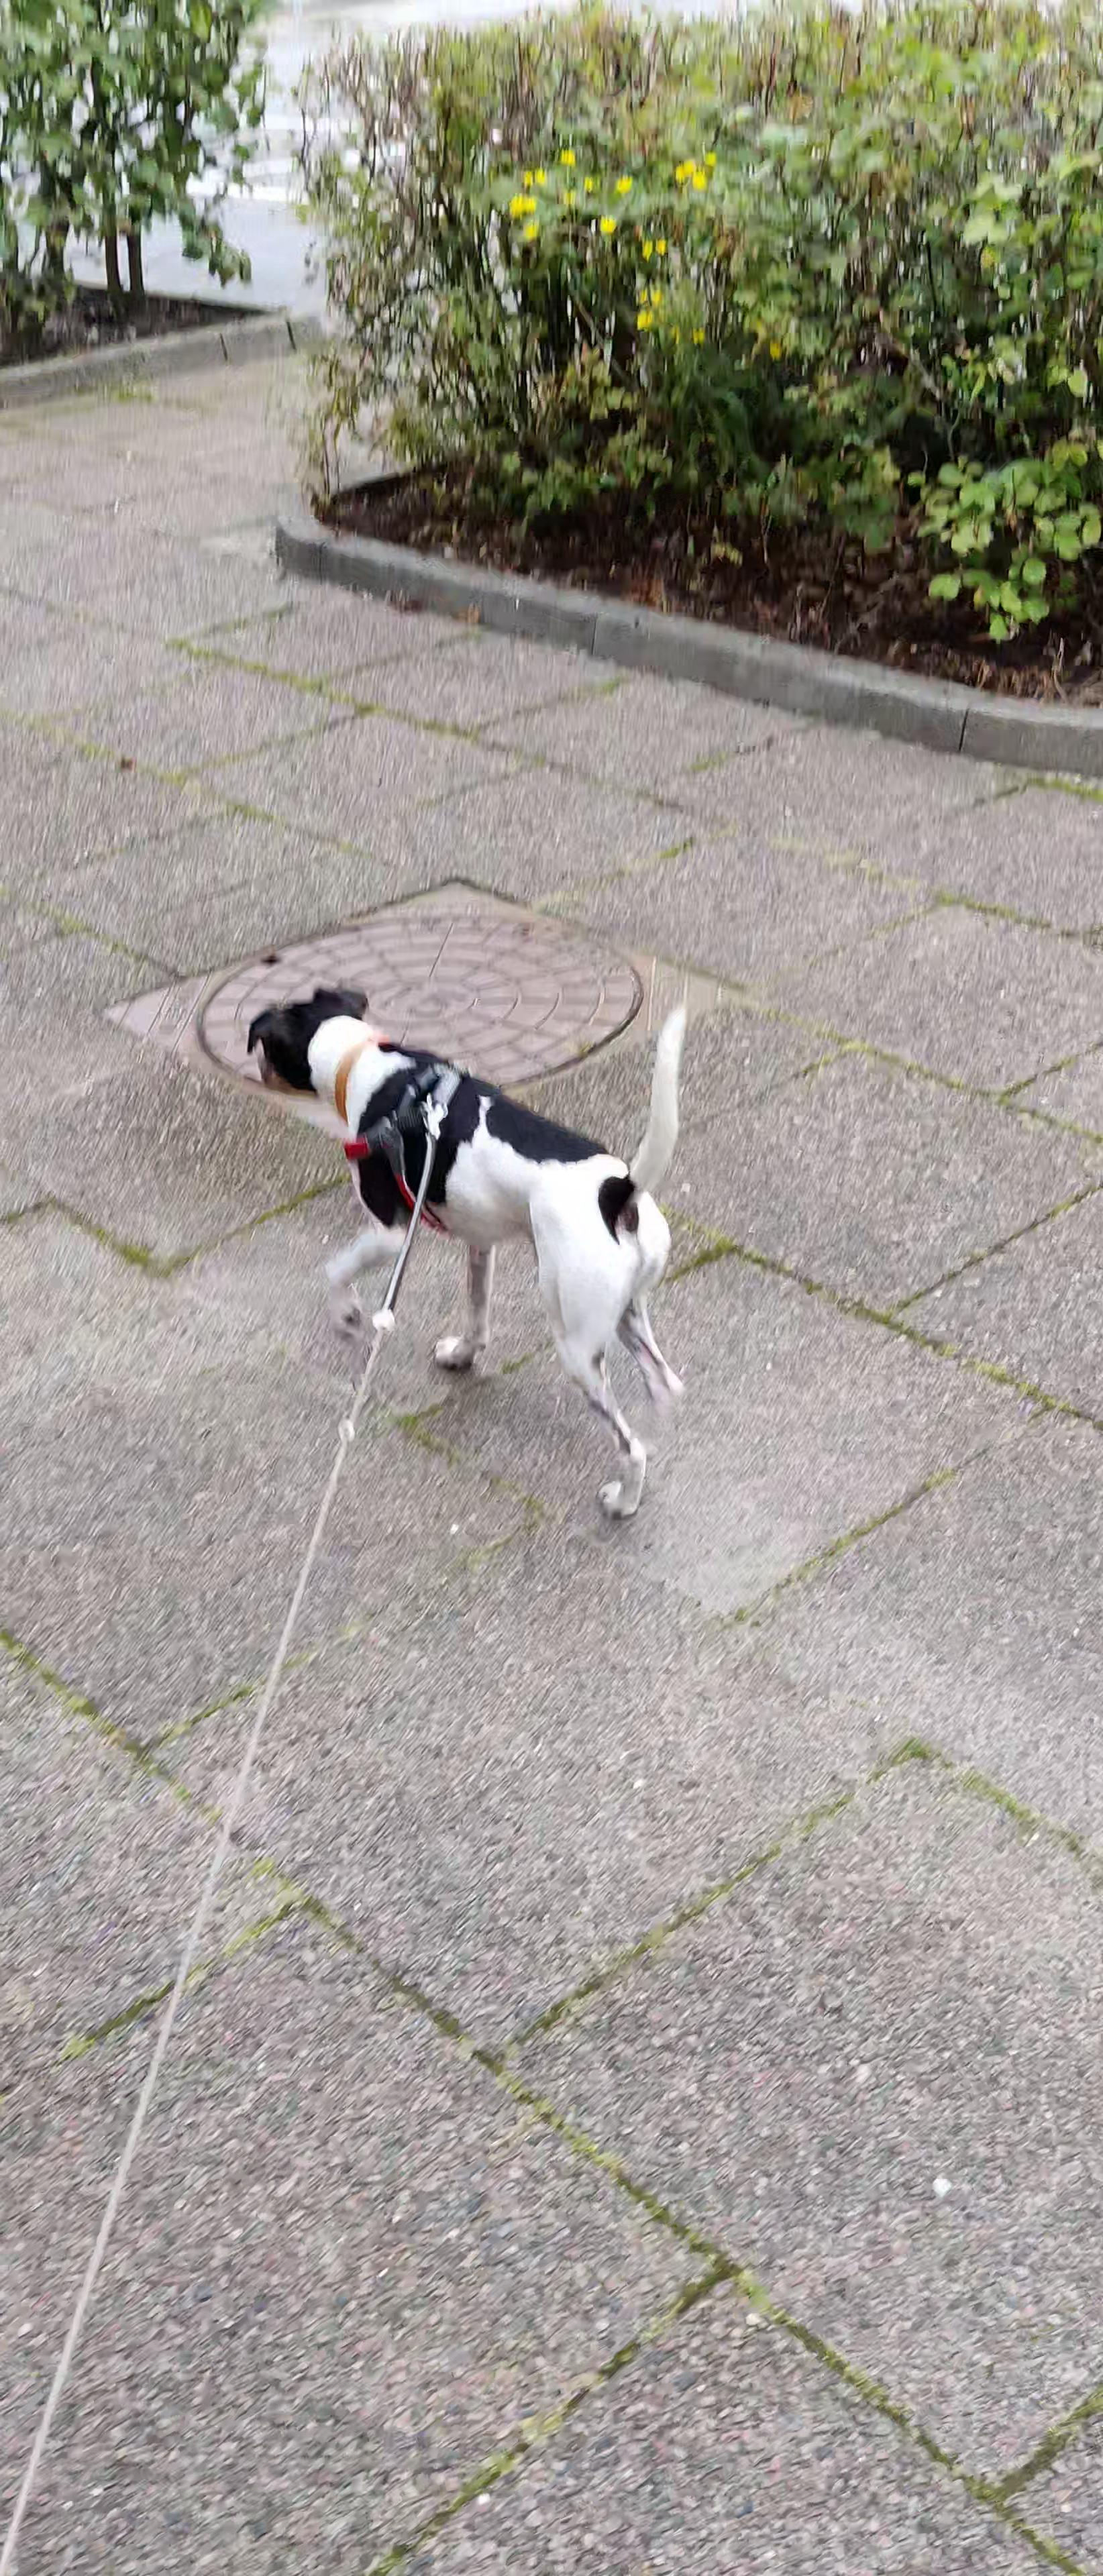Dog: (238, 981, 699, 1523)
